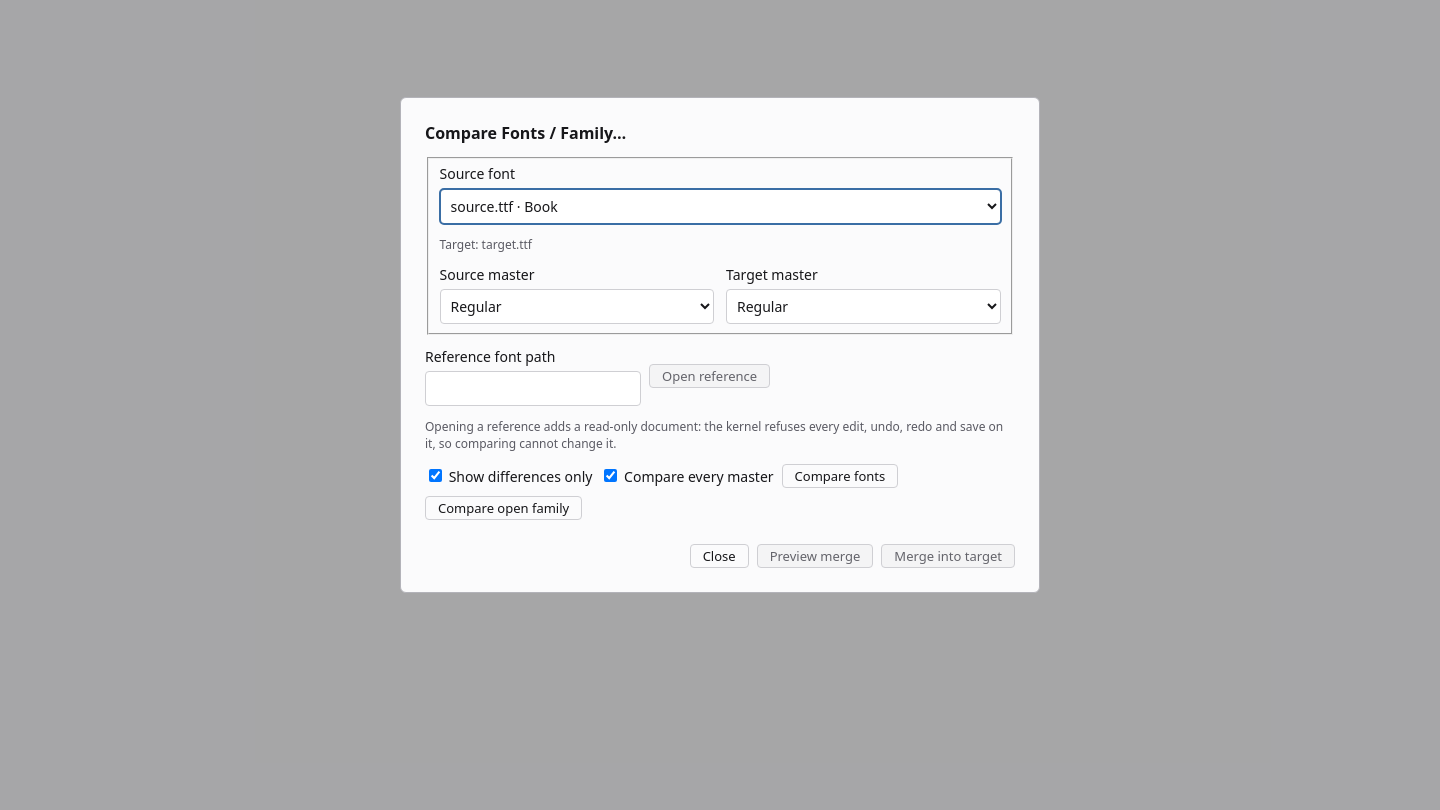
Scenario: compares every family master in one request and invalidates on master change
Click the button "Compare open family": (504, 508) [425,496,582,520]
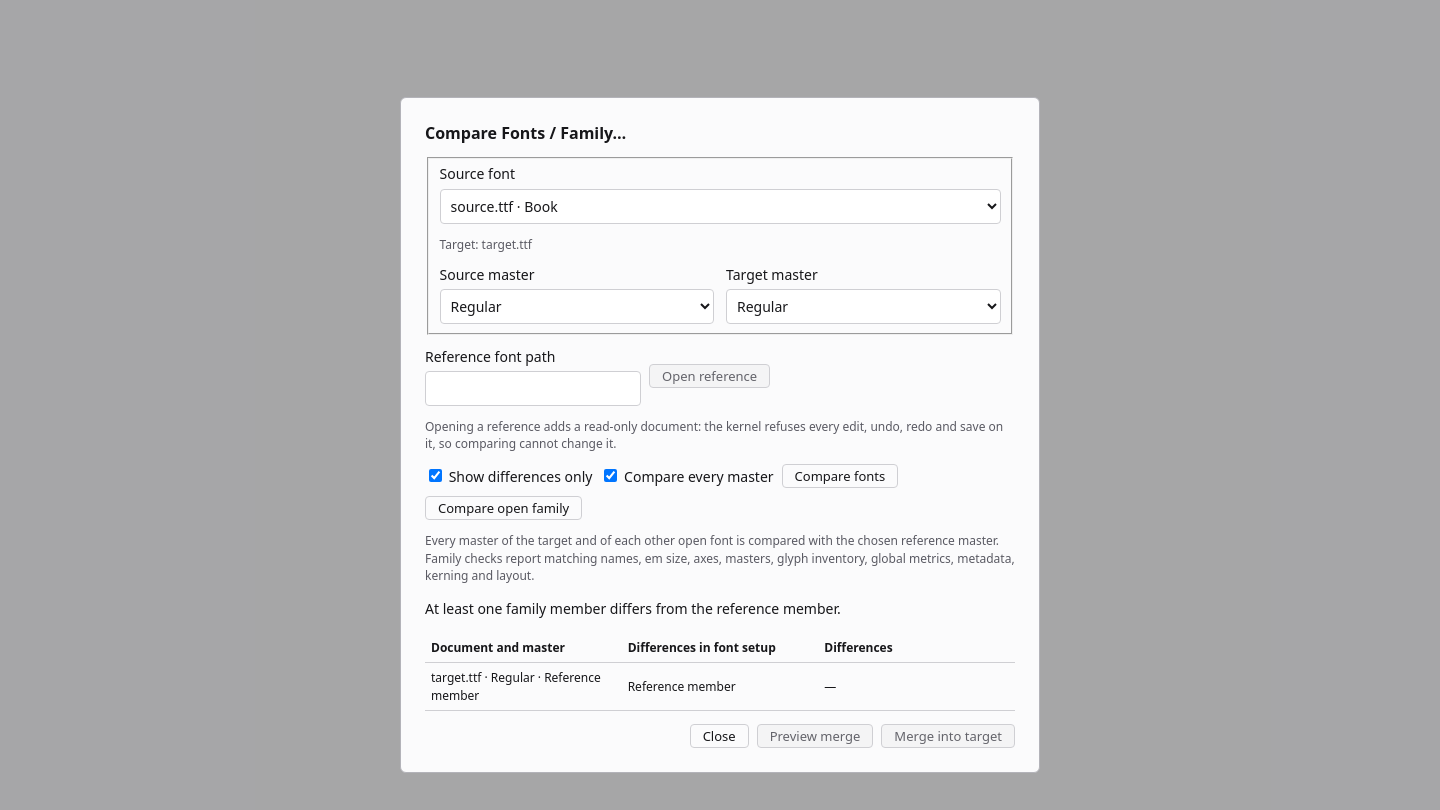
Expected: the element named "Family comparison" shows "Reference member", [628,678,736,695]
Expected: the text "At least one family member differs from the reference member." is shown, [425,598,841,618]
Select "Regular" in the dropdown labelled "Target master": (863, 307) [726,289,1000,324]
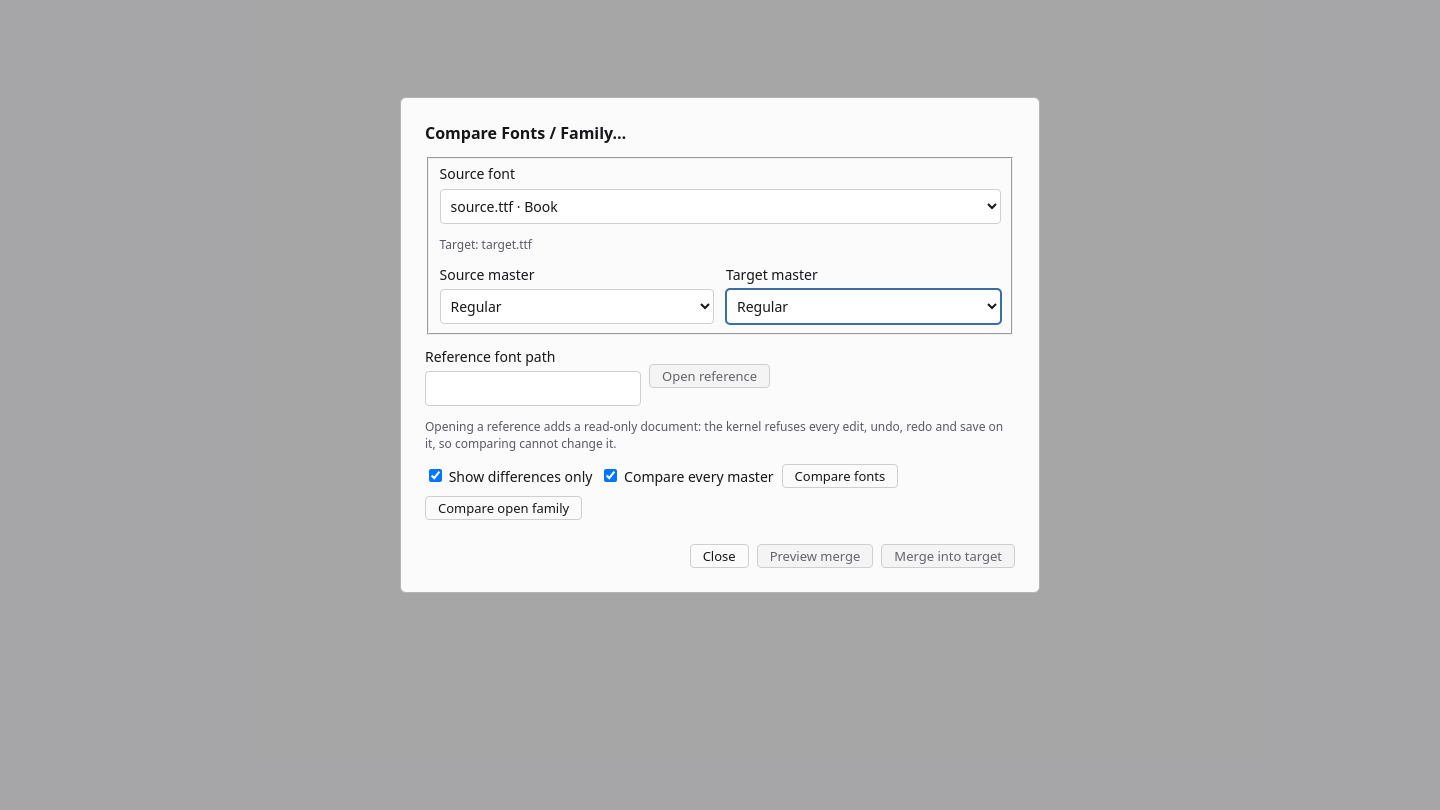
Click the button "Compare fonts": (840, 476) [782,464,898,488]
(page scrolled)
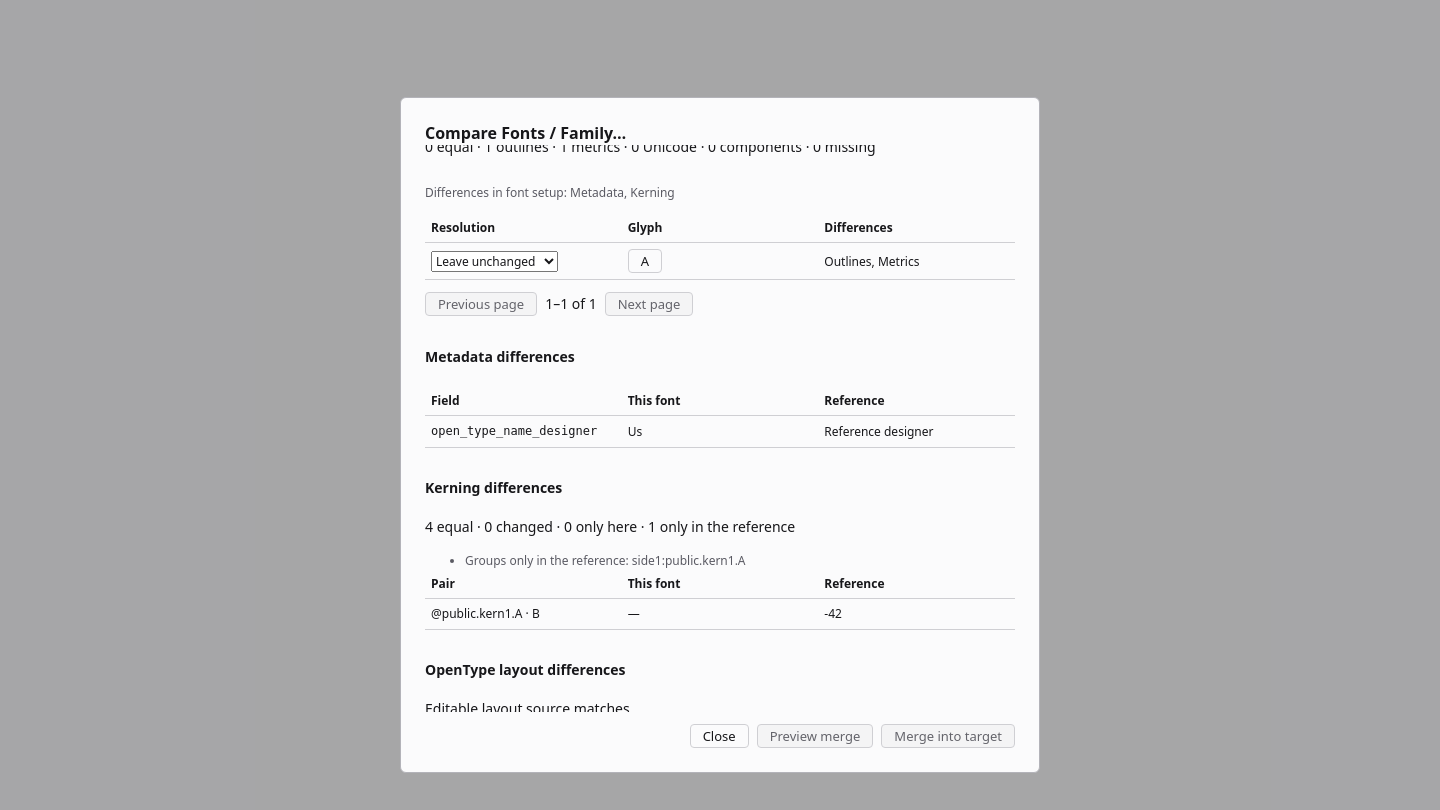
Expected: the element named "Glyph differences" is shown, [425,145,1015,712]
